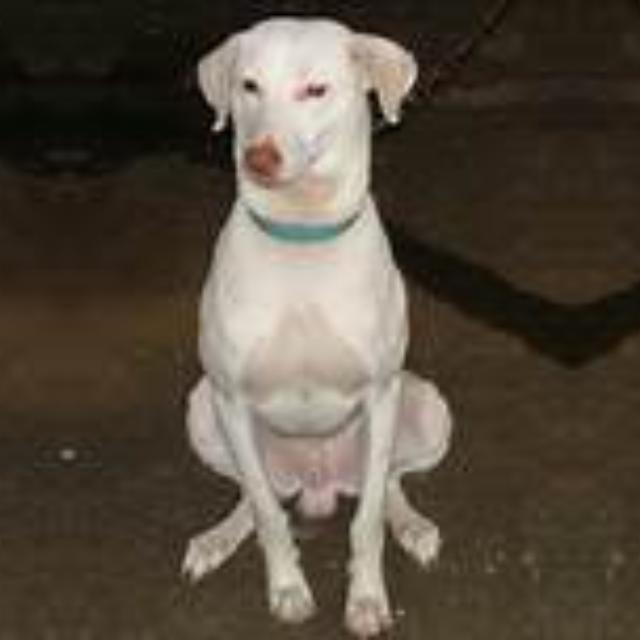dog: (183, 28, 532, 640), (613, 28, 640, 640)
